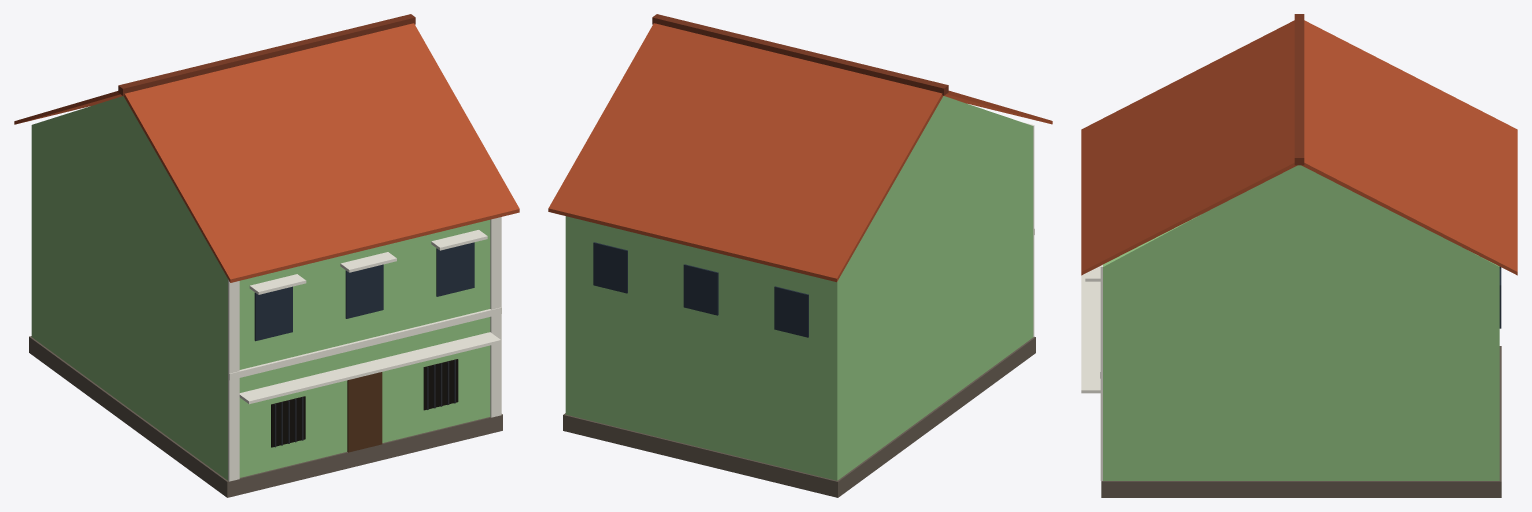
Rendered from bld_ot_house_04.glb.
3 views of the same model, side by side, from view 1: azimuth 30°, elevation 25°; view 2: azimuth 150°, elevation 25°; view 3: azimuth 270°, elevation 25° (orthographic).
Visible parts, largest first — view 1: bld_ot_house_04; view 2: bld_ot_house_04; view 3: bld_ot_house_04.
Part boxes in pixels (x1,y1,x2,y2): bld_ot_house_04: (14, 14, 519, 497); bld_ot_house_04: (548, 14, 1052, 497); bld_ot_house_04: (1081, 14, 1517, 497).
Size of what is drawn, in the model's own units: 8.6 by 9.57 by 11.
